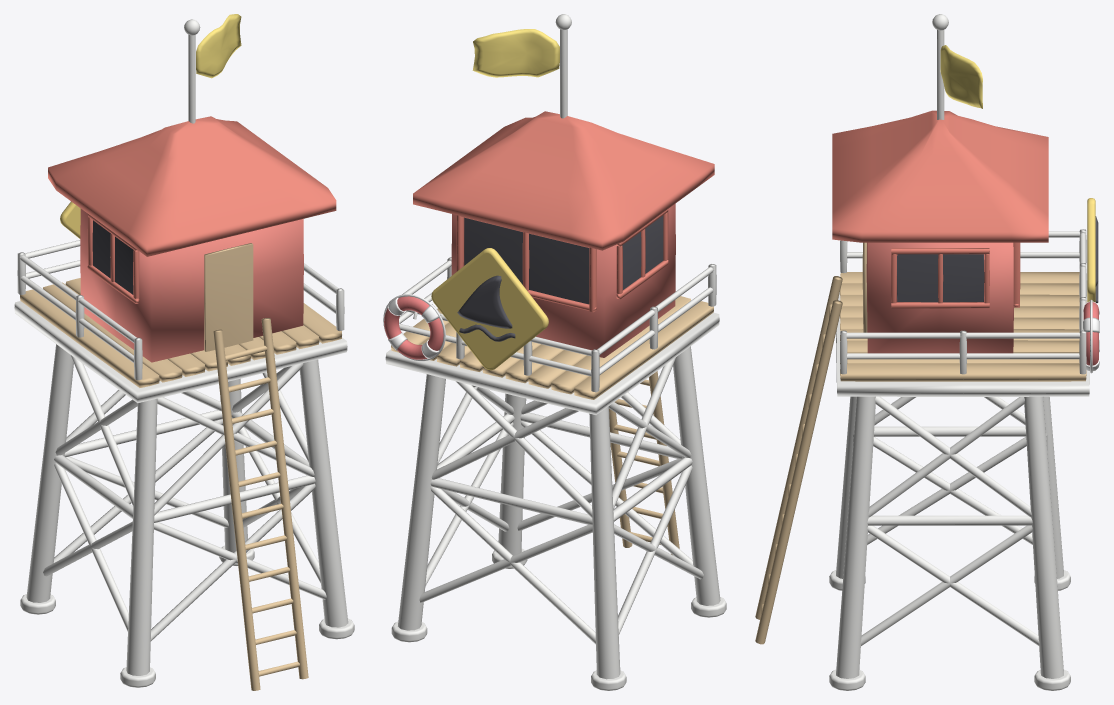
The model's file is SharkBaitHut.glb.
3 renders of one model, left to right at view 1: azimuth 30°, elevation 25°; view 2: azimuth 150°, elevation 25°; view 3: azimuth 270°, elevation 25°, orthographic. The views are drawn at different scales.
Visible parts, largest first — view 1: Stilts, Roof, Ladder, Cabin, Flag, SignMark, Sign; view 2: Stilts, Roof, Ladder, SignMark, Cabin, Sign, Flag, Float, FloatStripe; view 3: Stilts, Roof, Ladder, Cabin, SignMark, Flag, Sign, Float, FloatStripe.
Boxes of the visible parts, box(x1,y1,x2,y2) form: Stilts: box(14, 19, 354, 687); Roof: box(48, 116, 336, 303); Ladder: box(20, 243, 341, 690); Cabin: box(80, 208, 303, 362); Flag: box(196, 14, 241, 78); SignMark: box(92, 220, 133, 294); Sign: box(60, 201, 80, 238); Stilts: box(385, 14, 726, 690); Roof: box(413, 111, 714, 312); Ladder: box(391, 296, 713, 554); SignMark: box(457, 215, 663, 341); Cabin: box(451, 203, 675, 357); Sign: box(431, 248, 548, 370); Flag: box(472, 29, 559, 77); Float: box(384, 296, 443, 359); FloatStripe: box(383, 294, 445, 361); Stilts: box(829, 14, 1089, 690); Roof: box(832, 110, 1048, 308); Ladder: box(755, 242, 1086, 644); Cabin: box(866, 242, 1013, 353); SignMark: box(897, 216, 1098, 303); Flag: box(940, 45, 982, 108); Sign: box(1087, 198, 1095, 301); Float: box(1083, 302, 1098, 365); FloatStripe: box(1083, 299, 1099, 373).
Size of the model in its own units: 7.16 by 18 by 9.07.
